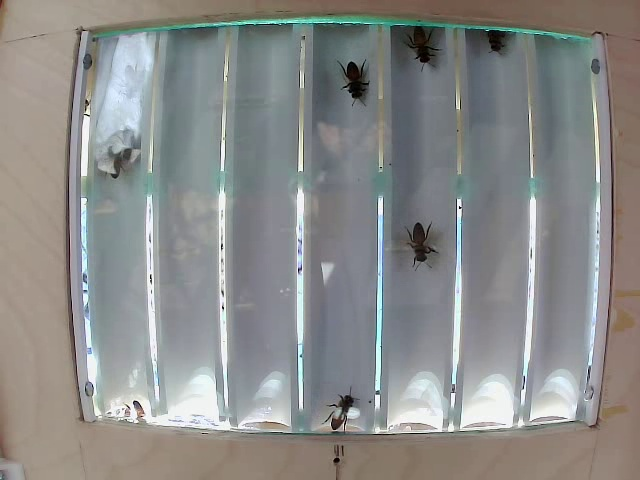bee: (386, 212, 446, 268), (386, 12, 438, 75), (332, 46, 375, 103)
